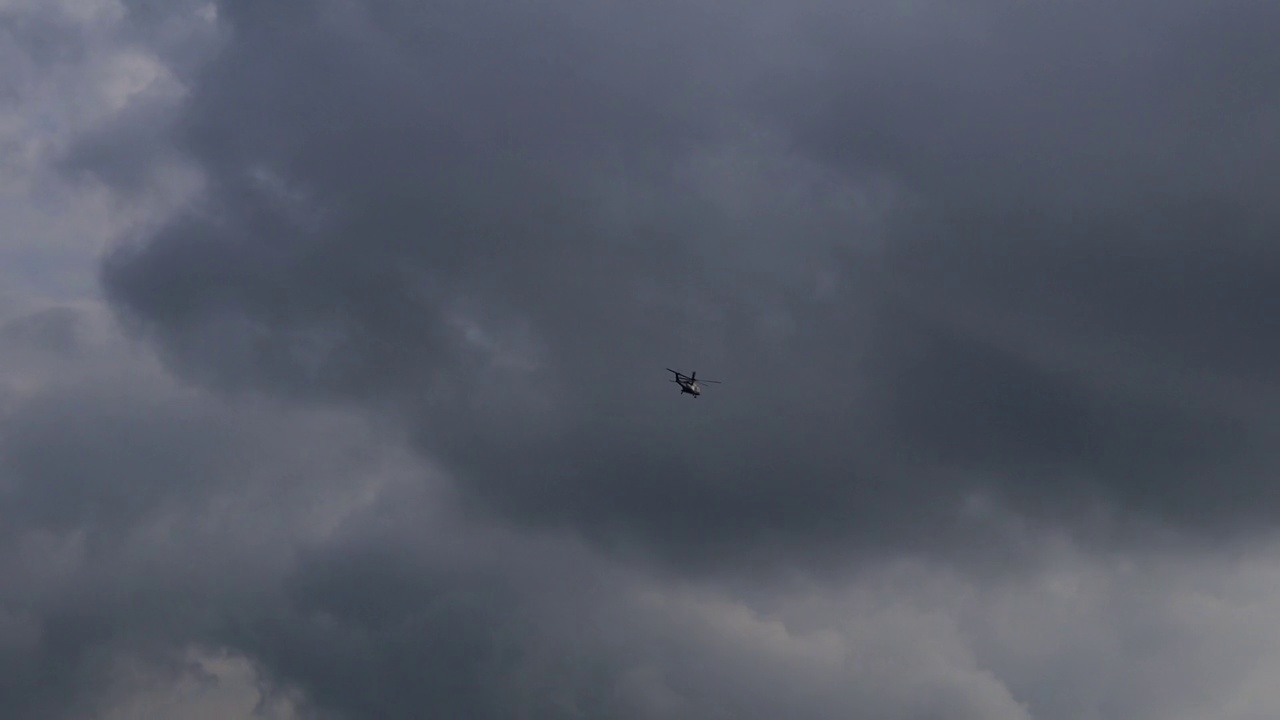heli: (665, 366, 721, 398)
